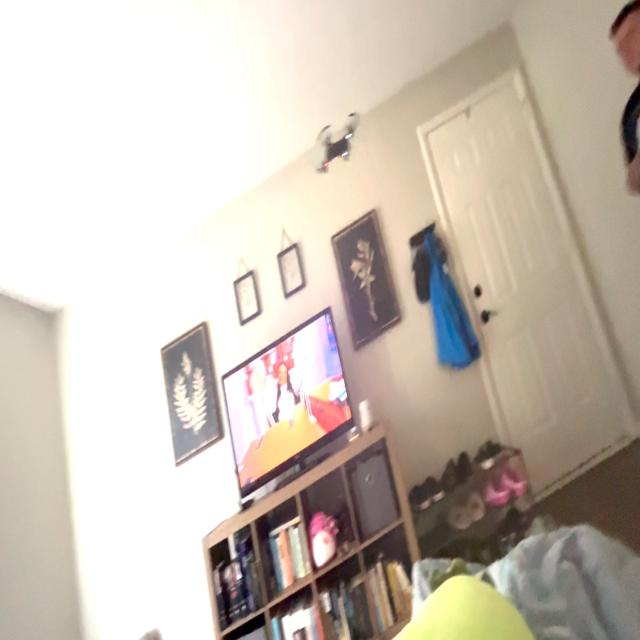drone: (304, 105, 364, 192)
